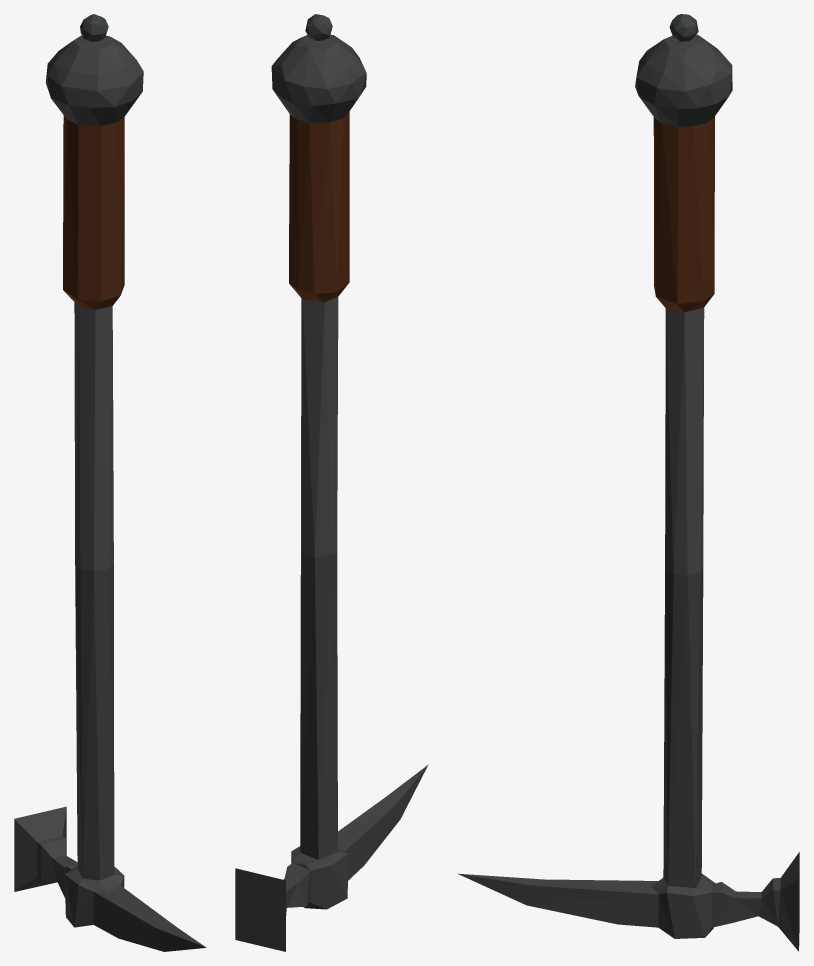
The model's file is Nadziak.fbx.
3 views of the same model, side by side, from view 1: azimuth 30°, elevation 25°; view 2: azimuth 150°, elevation 25°; view 3: azimuth 270°, elevation 25° (orthographic). The views are drawn at different scales.
Visible parts, largest first — view 1: Nadziak; view 2: Nadziak; view 3: Nadziak.
Boxes of the visible parts, box(x1,y1,x2,y2) form: Nadziak: box(14, 14, 206, 951); Nadziak: box(235, 14, 428, 951); Nadziak: box(458, 14, 799, 951).
Size of the model in its own units: 17.73 by 52.71 by 5.12.
